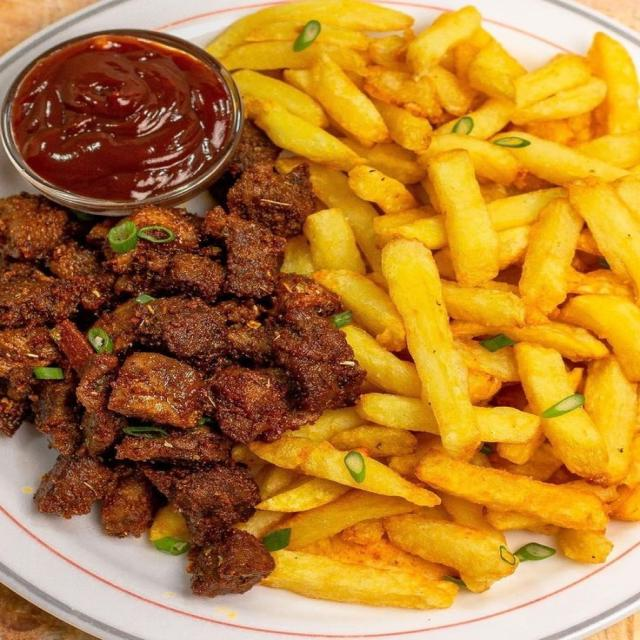potato fries: (209, 0, 639, 608), (383, 240, 479, 457), (416, 450, 607, 530), (251, 437, 439, 506), (514, 343, 607, 480), (207, 0, 413, 57), (261, 551, 457, 609), (386, 515, 517, 592), (301, 520, 446, 580), (247, 99, 364, 170), (569, 179, 639, 291), (287, 491, 416, 549), (314, 270, 406, 351), (310, 164, 380, 270), (520, 199, 583, 315), (494, 131, 627, 185), (311, 55, 389, 146), (560, 295, 639, 381), (585, 357, 637, 484), (452, 323, 608, 361), (343, 326, 421, 397), (234, 69, 328, 127), (588, 33, 639, 134), (420, 133, 518, 185), (407, 7, 480, 75), (512, 78, 606, 125), (514, 54, 590, 108), (304, 208, 365, 274), (343, 139, 426, 185), (442, 282, 525, 326), (468, 40, 525, 102), (349, 165, 418, 213), (359, 394, 439, 434), (257, 478, 348, 512), (374, 100, 432, 153), (332, 425, 417, 457), (221, 42, 317, 70), (291, 407, 366, 441), (578, 131, 639, 169), (556, 529, 613, 563), (467, 99, 513, 139), (149, 506, 189, 541), (281, 236, 314, 275), (439, 137, 443, 139)
